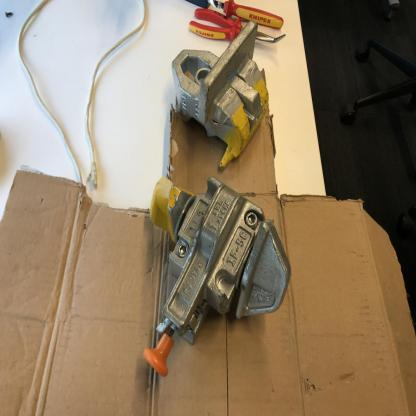Twistlock: (128, 174, 300, 377), (168, 35, 281, 171)
